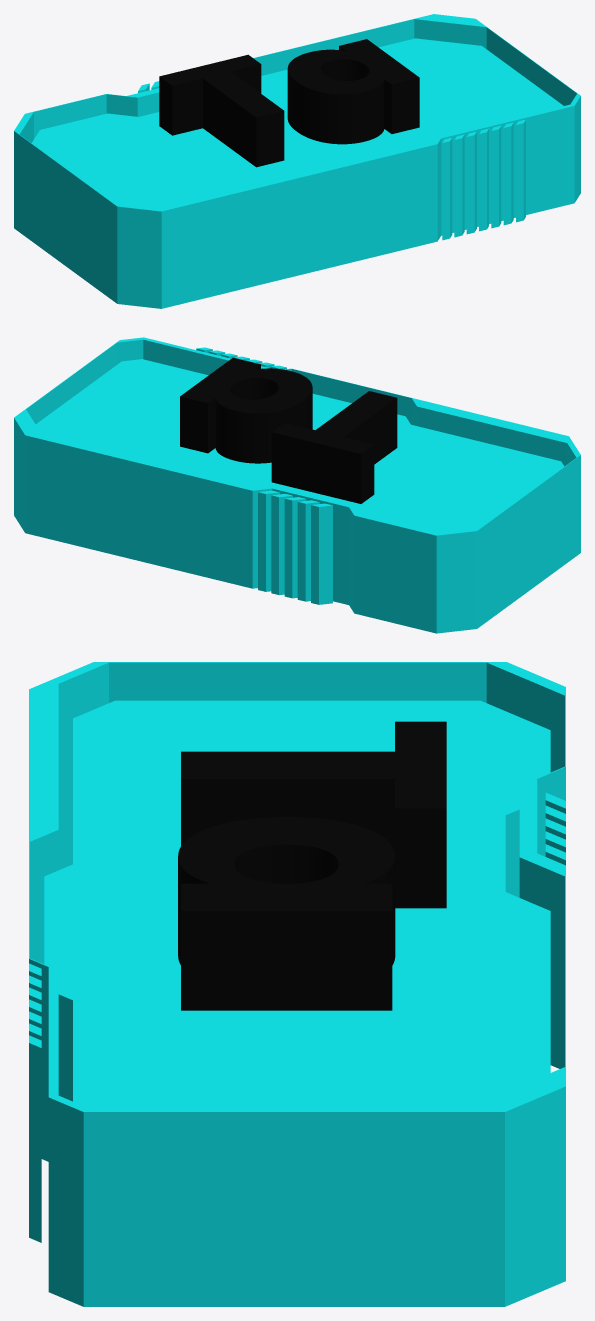
File: 7.HurufTa.glb
The picture shows the model from 3 angles, top to bottom: view 1: azimuth 30°, elevation 25°; view 2: azimuth 150°, elevation 25°; view 3: azimuth 270°, elevation 25°; orthographic projection. The views are drawn at different scales.
Visible parts, largest first — view 1: Curve.120, Curve.114, Curve.129, Curve.128, Curve.122, Curve.125, Curve.121, Curve.123, Curve.126, Curve.124, Curve.127; view 2: Curve.120, Curve.114, Curve.129, Curve.128, Curve.119, Curve.117, Curve.118, Curve.115, Curve.116; view 3: Curve.120, Curve.114, Curve.129, Curve.128, Curve.127.
Part boxes in pixels (x1,y1,x2,y2): Curve.120: (14, 14, 580, 308); Curve.114: (32, 38, 563, 207); Curve.129: (287, 39, 419, 144); Curve.128: (159, 54, 284, 167); Curve.122: (454, 134, 464, 237); Curve.125: (491, 125, 501, 228); Curve.121: (442, 137, 452, 240); Curve.123: (466, 131, 476, 234); Curve.126: (503, 122, 513, 225); Curve.124: (479, 128, 488, 231); Curve.127: (516, 119, 525, 222); Curve.120: (14, 337, 580, 633); Curve.114: (36, 359, 564, 533); Curve.129: (180, 357, 312, 463); Curve.128: (271, 391, 397, 503); Curve.119: (311, 503, 332, 604); Curve.117: (284, 497, 306, 598); Curve.118: (297, 500, 319, 601); Curve.115: (258, 490, 279, 591); Curve.116: (271, 494, 292, 595); Curve.120: (29, 662, 565, 1306); Curve.114: (44, 700, 550, 1111); Curve.129: (178, 817, 395, 1010); Curve.128: (181, 721, 446, 908); Curve.127: (29, 1035, 41, 1242).
Size of the model in its own units: 0.2966 by 0.0806 by 0.1496.
